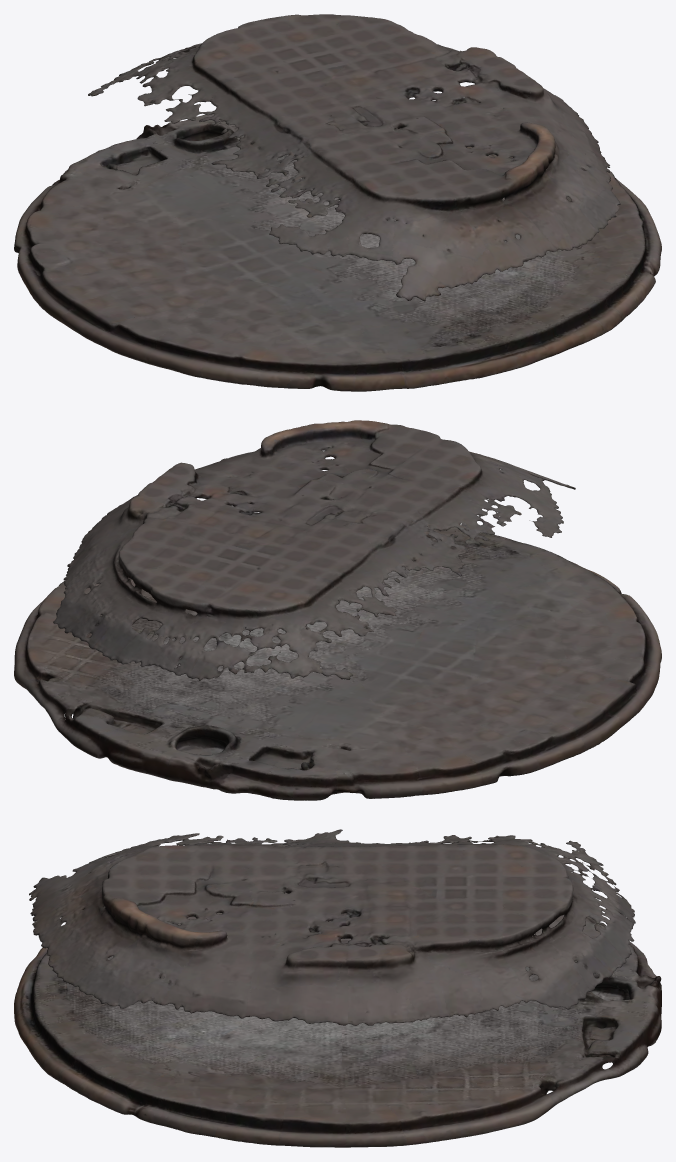
3 views of the same model, one above another, from view 1: azimuth 30°, elevation 25°; view 2: azimuth 150°, elevation 25°; view 3: azimuth 270°, elevation 25° (orthographic).
Size of the model in its own units: 2 by 0.4988 by 2.
Materials: 1 (1 with a texture image).
